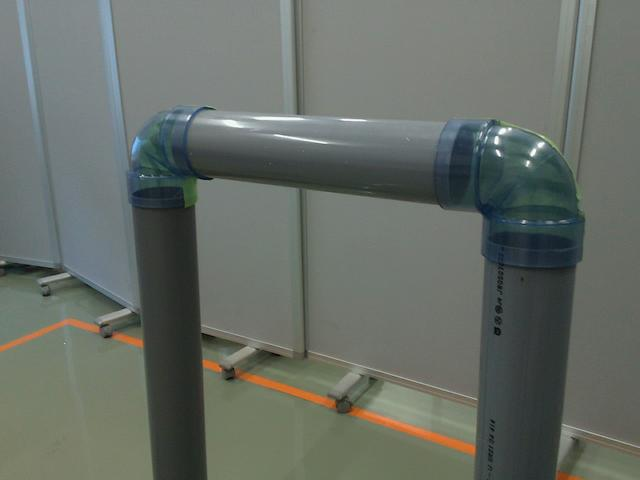bent: (429, 118, 586, 266), (128, 104, 220, 210)
